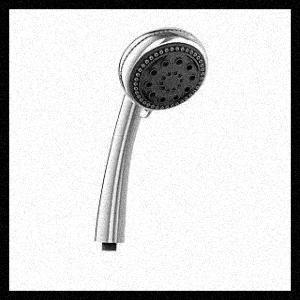Ducha: (81, 27, 219, 250)
